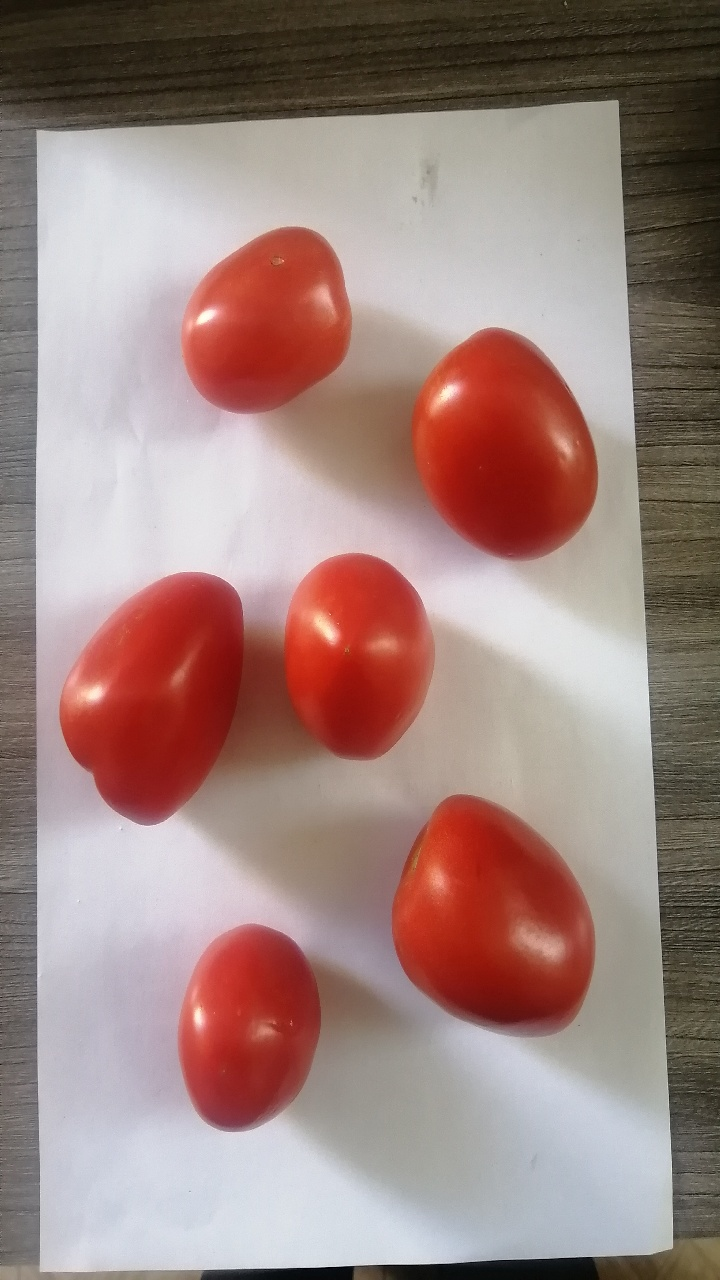tomateRojo: (12, 549, 263, 822), (366, 785, 603, 1063), (397, 305, 595, 566), (152, 203, 363, 431), (149, 906, 328, 1146), (271, 528, 438, 768)
